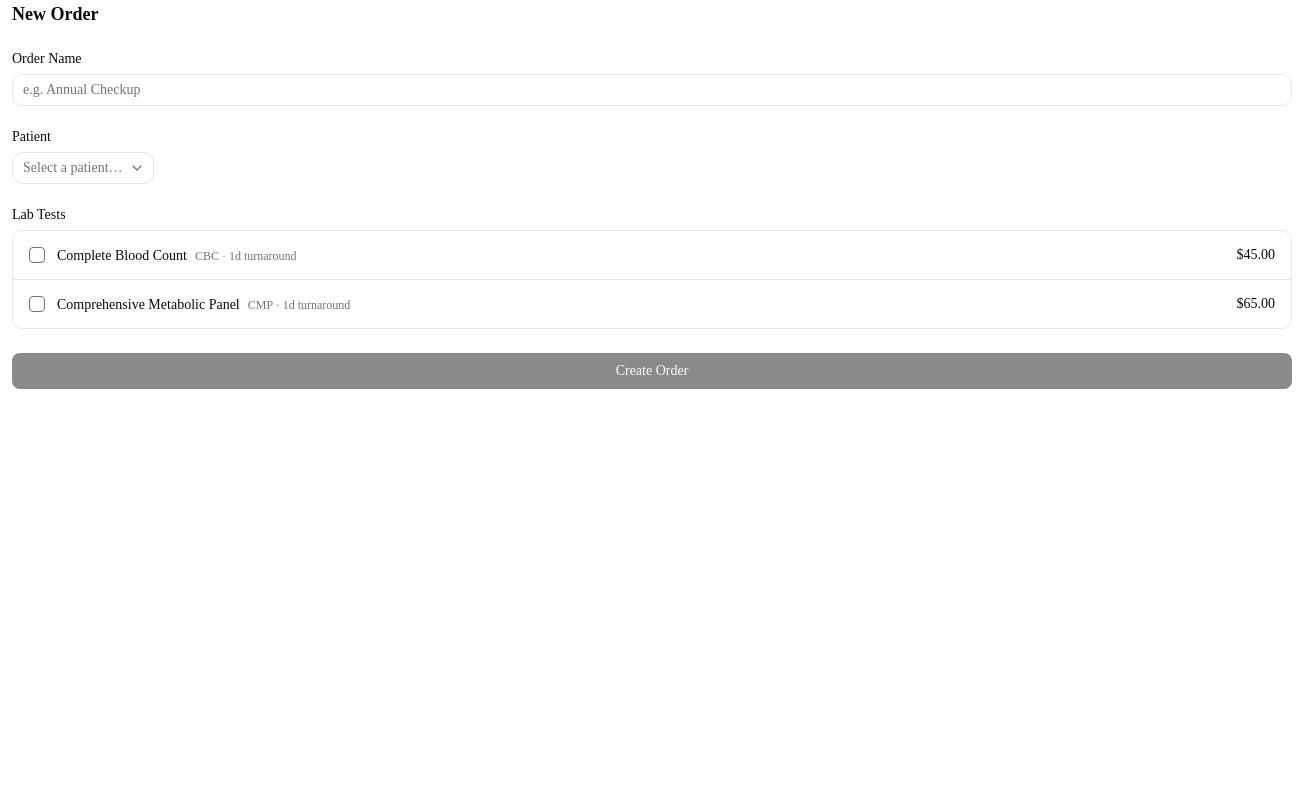
it: NewOrderForm › deselecting a lab test removes it from the order summary
What coordinates should you click on to do the following:
click the button "Complete Blood Count"
I would click on:
 (122, 256)
Its box is [13, 231, 1291, 280].
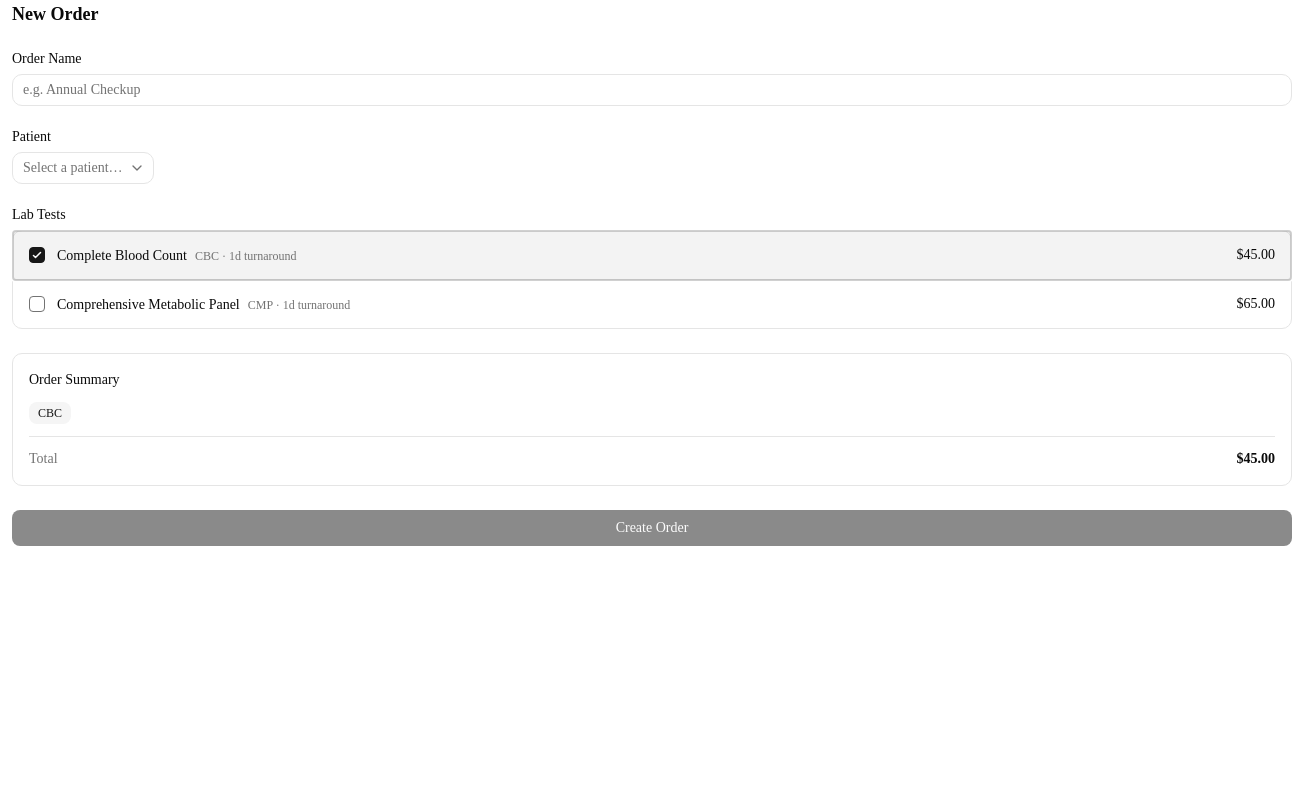
What coordinates should you click on to do the following:
click the button "Complete Blood Count"
I would click on:
 (122, 256)
Its box is [13, 231, 1291, 280].
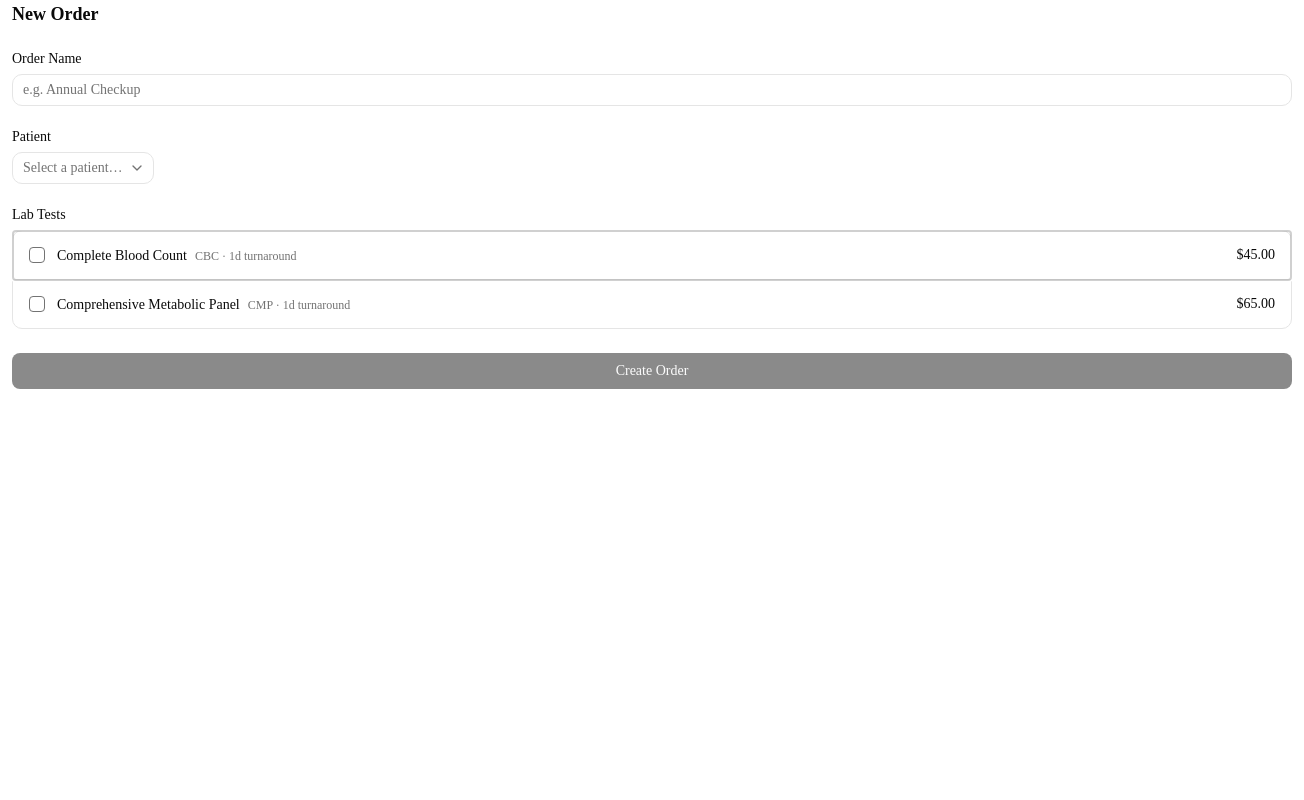
Result: the text "Order Summary" is gone
